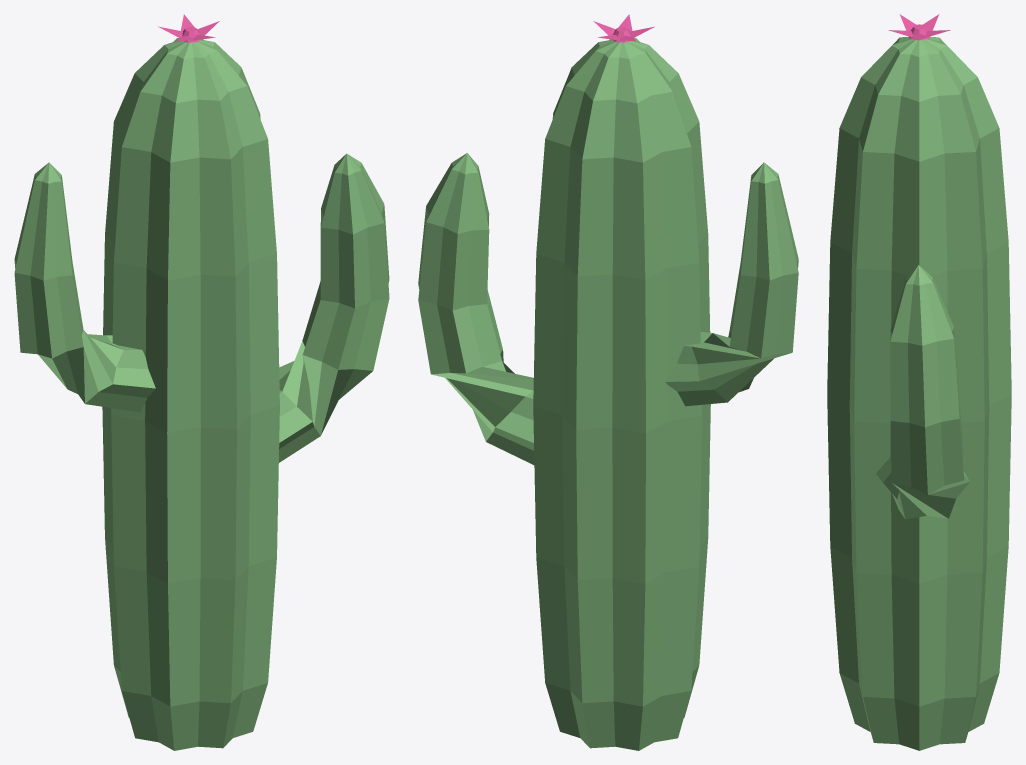
File: cactus.glb
3 views of the same model, side by side, from view 1: azimuth 30°, elevation 25°; view 2: azimuth 150°, elevation 25°; view 3: azimuth 270°, elevation 25° (orthographic).
Parts seen in each view (by area): view 1: Cactus_Body, Cactus_Flowers; view 2: Cactus_Body, Cactus_Flowers; view 3: Cactus_Body, Cactus_Flowers.
Boxes of the visible parts, x1,y1,x2,y2 form: Cactus_Body: (14, 38, 389, 750); Cactus_Flowers: (158, 14, 219, 42); Cactus_Body: (418, 38, 798, 750); Cactus_Flowers: (593, 14, 654, 42); Cactus_Body: (827, 37, 1011, 750); Cactus_Flowers: (888, 14, 950, 40).
Size of the model in its own units: 3.13 by 5.51 by 1.32.
